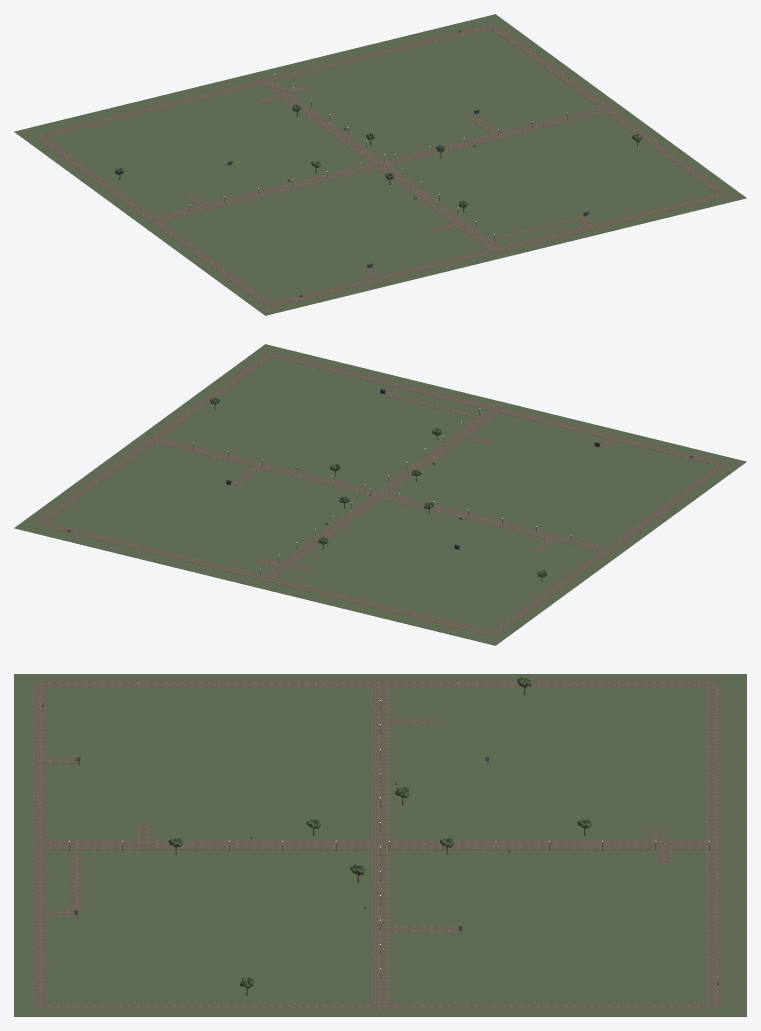
Rendered from connected_world.glb.
3 renders of one model, top to bottom at view 1: azimuth 30°, elevation 25°; view 2: azimuth 150°, elevation 25°; view 3: azimuth 270°, elevation 25°, orthographic. The views are drawn at different scales.
Visible parts, largest first — view 1: World_Ground, Connected_Walkways; view 2: World_Ground, Connected_Walkways; view 3: World_Ground, Connected_Walkways, Connecting_Street_Trees_Canopy.
Boxes of the visible parts, <box> form: World_Ground: <box>14,14,746,315</box>; Connected_Walkways: <box>35,24,727,307</box>; World_Ground: <box>14,344,746,645</box>; Connected_Walkways: <box>35,352,727,635</box>; World_Ground: <box>14,674,746,1016</box>; Connected_Walkways: <box>33,680,724,1009</box>; Connecting_Street_Trees_Canopy: <box>168,677,591,988</box>.
Size of the model in its own units: 365 by 8.69 by 330.
Materials: 8 (8 with a texture image).
